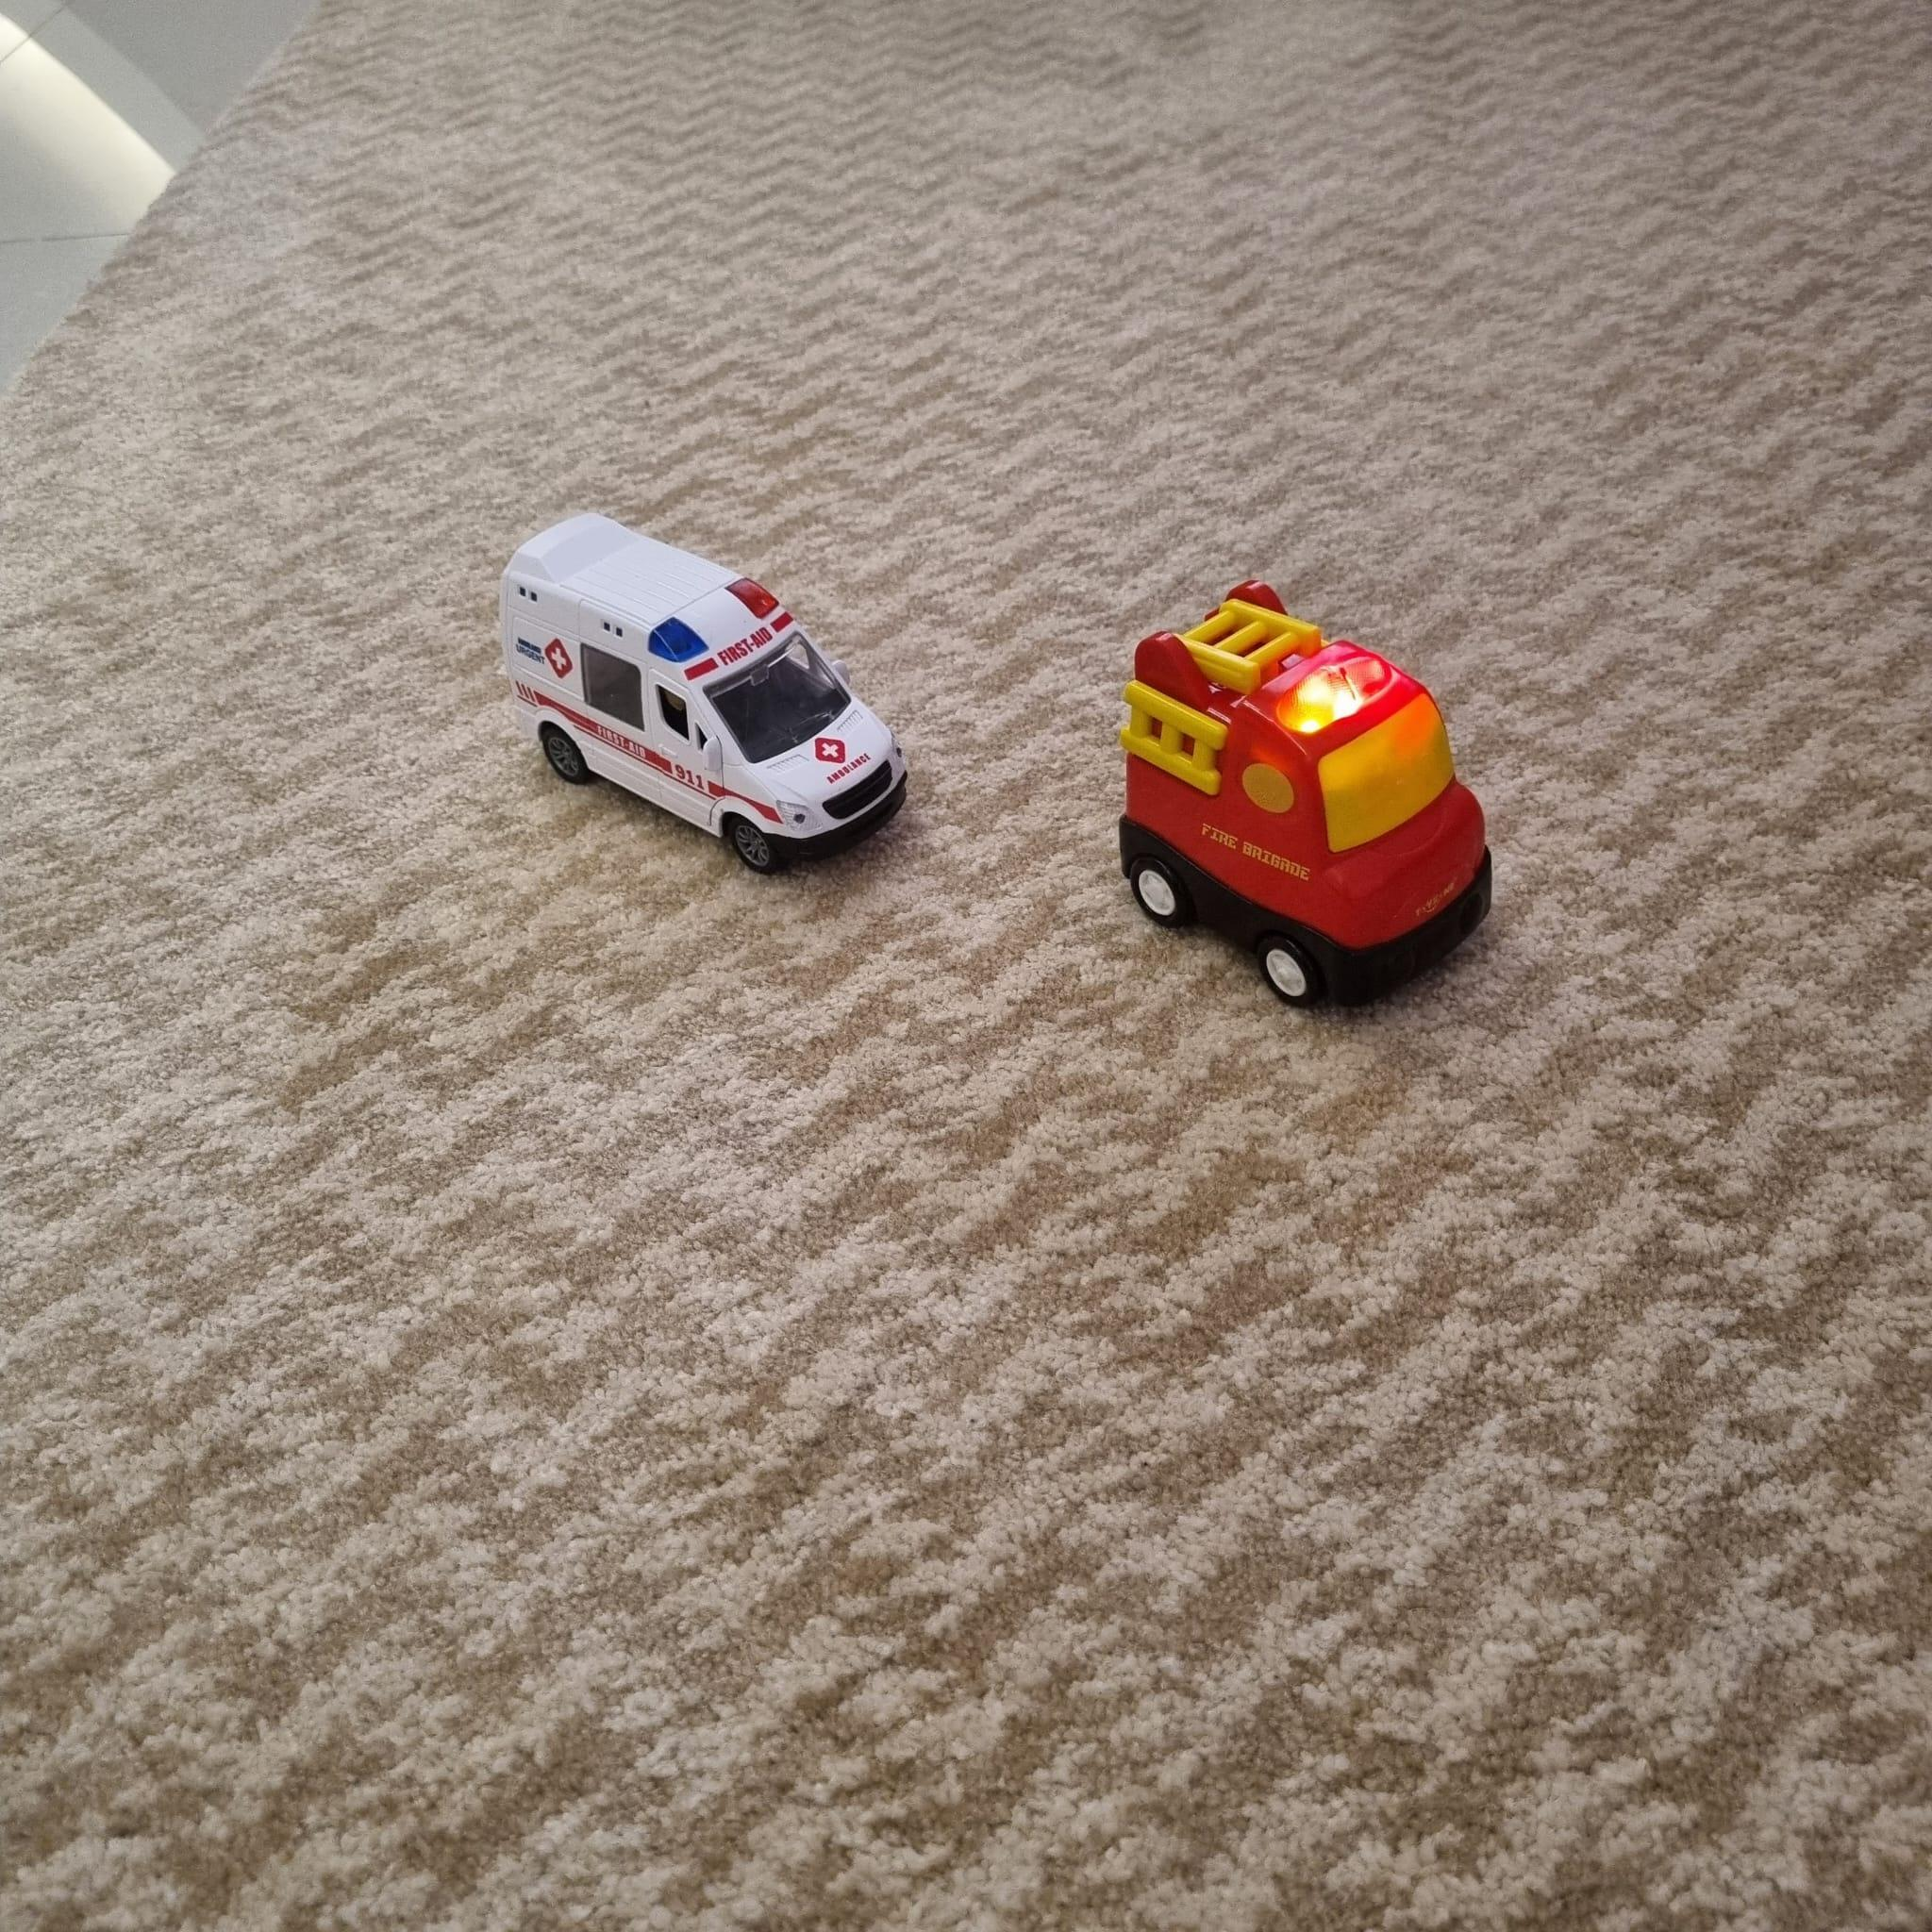ambulance_off: (492, 510, 916, 892)
firetruck_on: (1118, 577, 1497, 1014)
